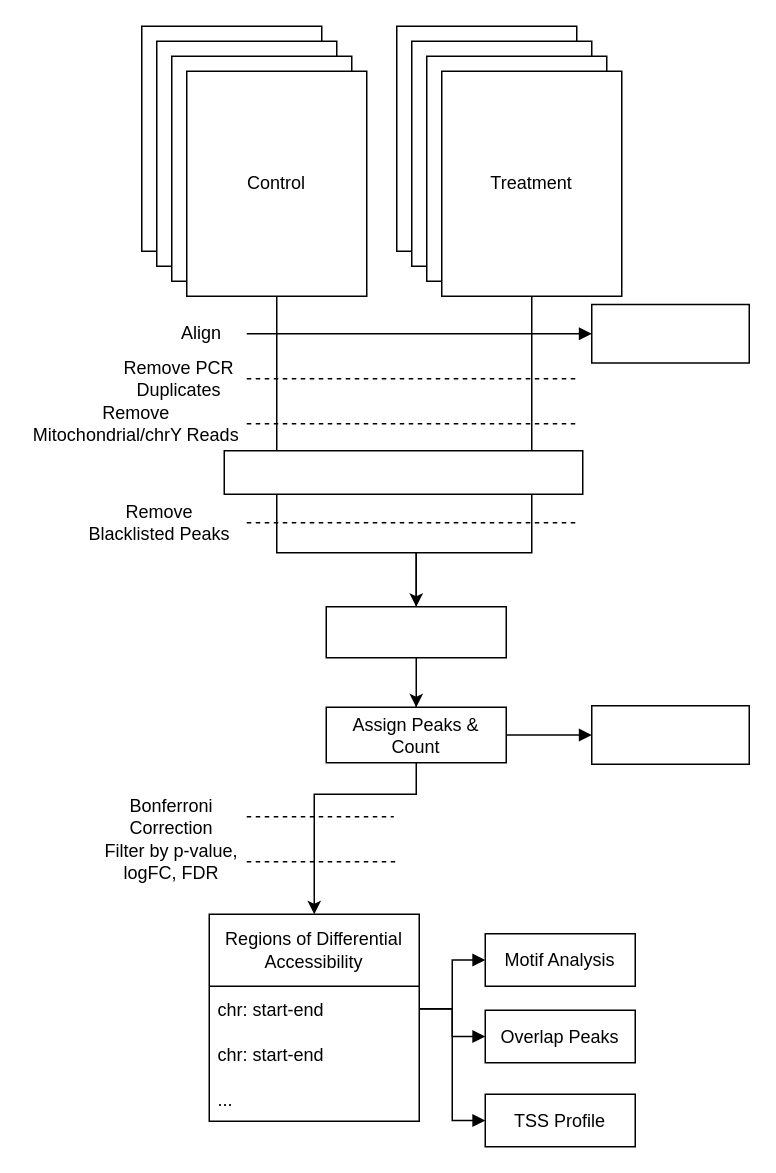
The diagram is 776 pixels wide and 1173 high, and some of its shapes have lost their labels. The centre of each missing label's shape, as x and y in pixels:
"Call Peaks (MACS2)" goes at [403,471].
"Convert to BigWig" goes at [669,333].
"Merge Peaks" goes at [415,631].
"PCA" goes at [669,734].
